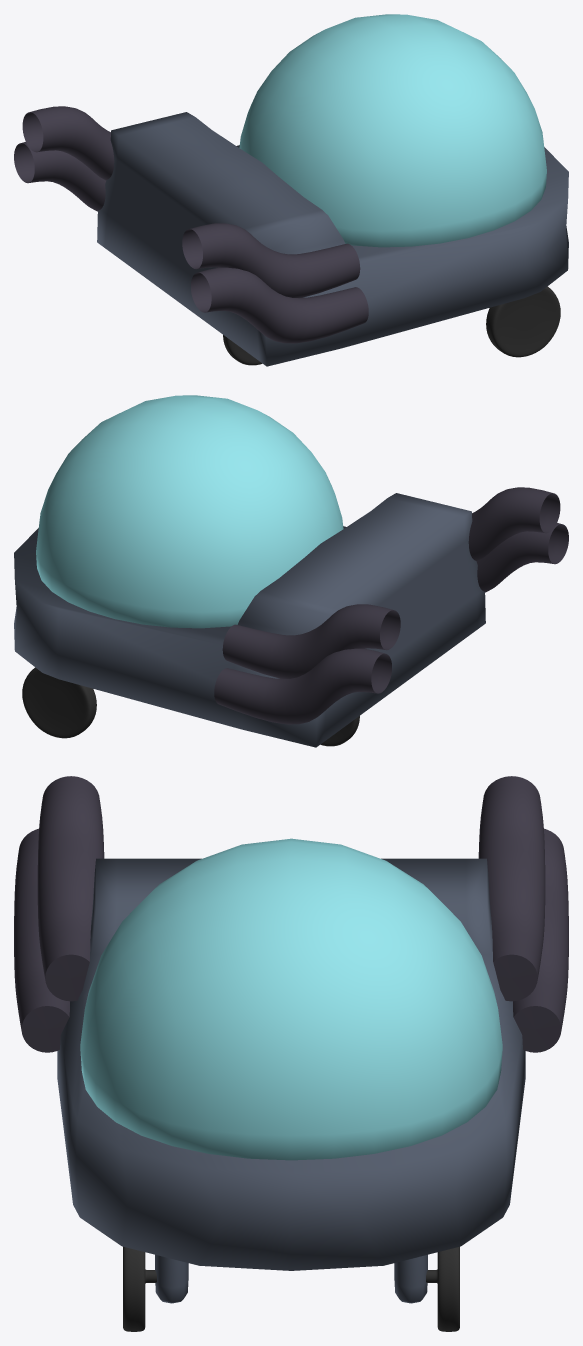
File: spacefish.fbx
3 views of the same model, one above another, from view 1: azimuth 30°, elevation 25°; view 2: azimuth 150°, elevation 25°; view 3: azimuth 270°, elevation 25° (orthographic). The views are drawn at different scales.
Parts seen in each view (by area): view 1: Cube.001, Cylinder.002, Cylinder.001; view 2: Cube.001, Cylinder.003, Cylinder.001; view 3: Cube.001, Cylinder.002, Cylinder.003.
Part boxes in pixels (bbox=[...]): Cube.001: bbox=[14, 14, 568, 366]; Cylinder.002: bbox=[486, 286, 560, 357]; Cylinder.001: bbox=[223, 335, 262, 365]; Cube.001: bbox=[14, 395, 568, 747]; Cylinder.003: bbox=[22, 667, 96, 738]; Cylinder.001: bbox=[320, 716, 359, 746]; Cube.001: bbox=[14, 776, 568, 1303]; Cylinder.002: bbox=[123, 1246, 156, 1331]; Cylinder.003: bbox=[426, 1246, 459, 1331].
Size of the model in its own units: 589 by 396 by 476.
